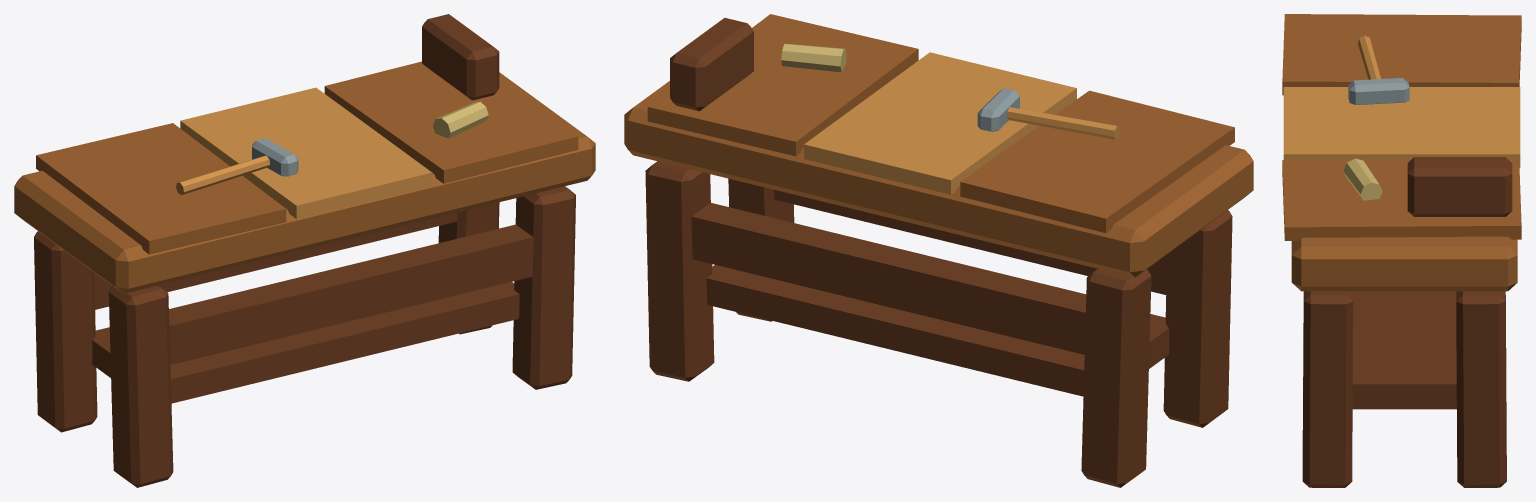
File: station_workbench_primitive.glb
The picture shows the model from 3 angles, left to right: view 1: azimuth 30°, elevation 25°; view 2: azimuth 150°, elevation 25°; view 3: azimuth 270°, elevation 25°; orthographic projection. The views are drawn at different scales.
Parts seen in each view (by area): view 1: Worktop, Front_Brace, Top_Plank_1, Top_Plank_2, Top_Plank_3, Lower_Shelf, Leg_1_1, Leg_2_1, Leg_1_2, Wood_Stop, Back_Brace, Leg_2_2 (+3 smaller); view 2: Worktop, Back_Brace, Top_Plank_1, Top_Plank_2, Top_Plank_3, Lower_Shelf, Leg_1_2, Leg_2_2, Leg_1_1, Wood_Stop, Front_Brace, Leg_2_1 (+3 smaller); view 3: Top_Plank_1, Top_Plank_2, Lower_Shelf, Worktop, Top_Plank_3, Leg_2_1, Leg_2_2, Wood_Stop, Bench_Hammer_Head, Twine_Coil_A, Bench_Hammer_Handle.
Part boxes in pixels (x1=…): Worktop: x1=14, y1=72, x2=595, y2=293; Front_Brace: x1=169, y1=224, x2=533, y2=364; Top_Plank_1: x1=36, y1=123, x2=286, y2=254; Top_Plank_2: x1=180, y1=87, x2=432, y2=219; Top_Plank_3: x1=324, y1=61, x2=578, y2=183; Lower_Shelf: x1=92, y1=282, x2=519, y2=403; Leg_1_1: x1=108, y1=285, x2=173, y2=487; Leg_2_1: x1=512, y1=186, x2=575, y2=389; Leg_1_2: x1=34, y1=231, x2=97, y2=432; Wood_Stop: x1=422, y1=14, x2=499, y2=100; Back_Brace: x1=94, y1=212, x2=457, y2=309; Leg_2_2: x1=438, y1=202, x2=499, y2=334; Worktop: x1=624, y1=81, x2=1253, y2=277; Back_Brace: x1=691, y1=203, x2=1086, y2=354; Top_Plank_1: x1=960, y1=90, x2=1234, y2=233; Top_Plank_2: x1=804, y1=52, x2=1076, y2=194; Top_Plank_3: x1=647, y1=14, x2=918, y2=156; Lower_Shelf: x1=706, y1=265, x2=1169, y2=396; Leg_1_2: x1=1081, y1=269, x2=1151, y2=487; Leg_2_2: x1=645, y1=161, x2=714, y2=381; Leg_1_1: x1=1163, y1=210, x2=1232, y2=427; Wood_Stop: x1=670, y1=18, x2=753, y2=111; Front_Brace: x1=774, y1=189, x2=1166, y2=294; Leg_2_1: x1=728, y1=178, x2=794, y2=321; Top_Plank_1: x1=1282, y1=14, x2=1521, y2=95; Top_Plank_2: x1=1283, y1=87, x2=1520, y2=167; Lower_Shelf: x1=1352, y1=291, x2=1456, y2=409; Worktop: x1=1291, y1=236, x2=1517, y2=291; Top_Plank_3: x1=1282, y1=158, x2=1521, y2=240; Leg_2_1: x1=1302, y1=291, x2=1353, y2=487; Leg_2_2: x1=1456, y1=291, x2=1506, y2=487; Wood_Stop: x1=1407, y1=157, x2=1512, y2=216; Bench_Hammer_Head: x1=1348, y1=78, x2=1409, y2=104; Twine_Coil_A: x1=1343, y1=158, x2=1382, y2=200; Bench_Hammer_Handle: x1=1358, y1=35, x2=1380, y2=79.
Size of the model in its own units: 2.05 by 1.24 by 0.8686.
